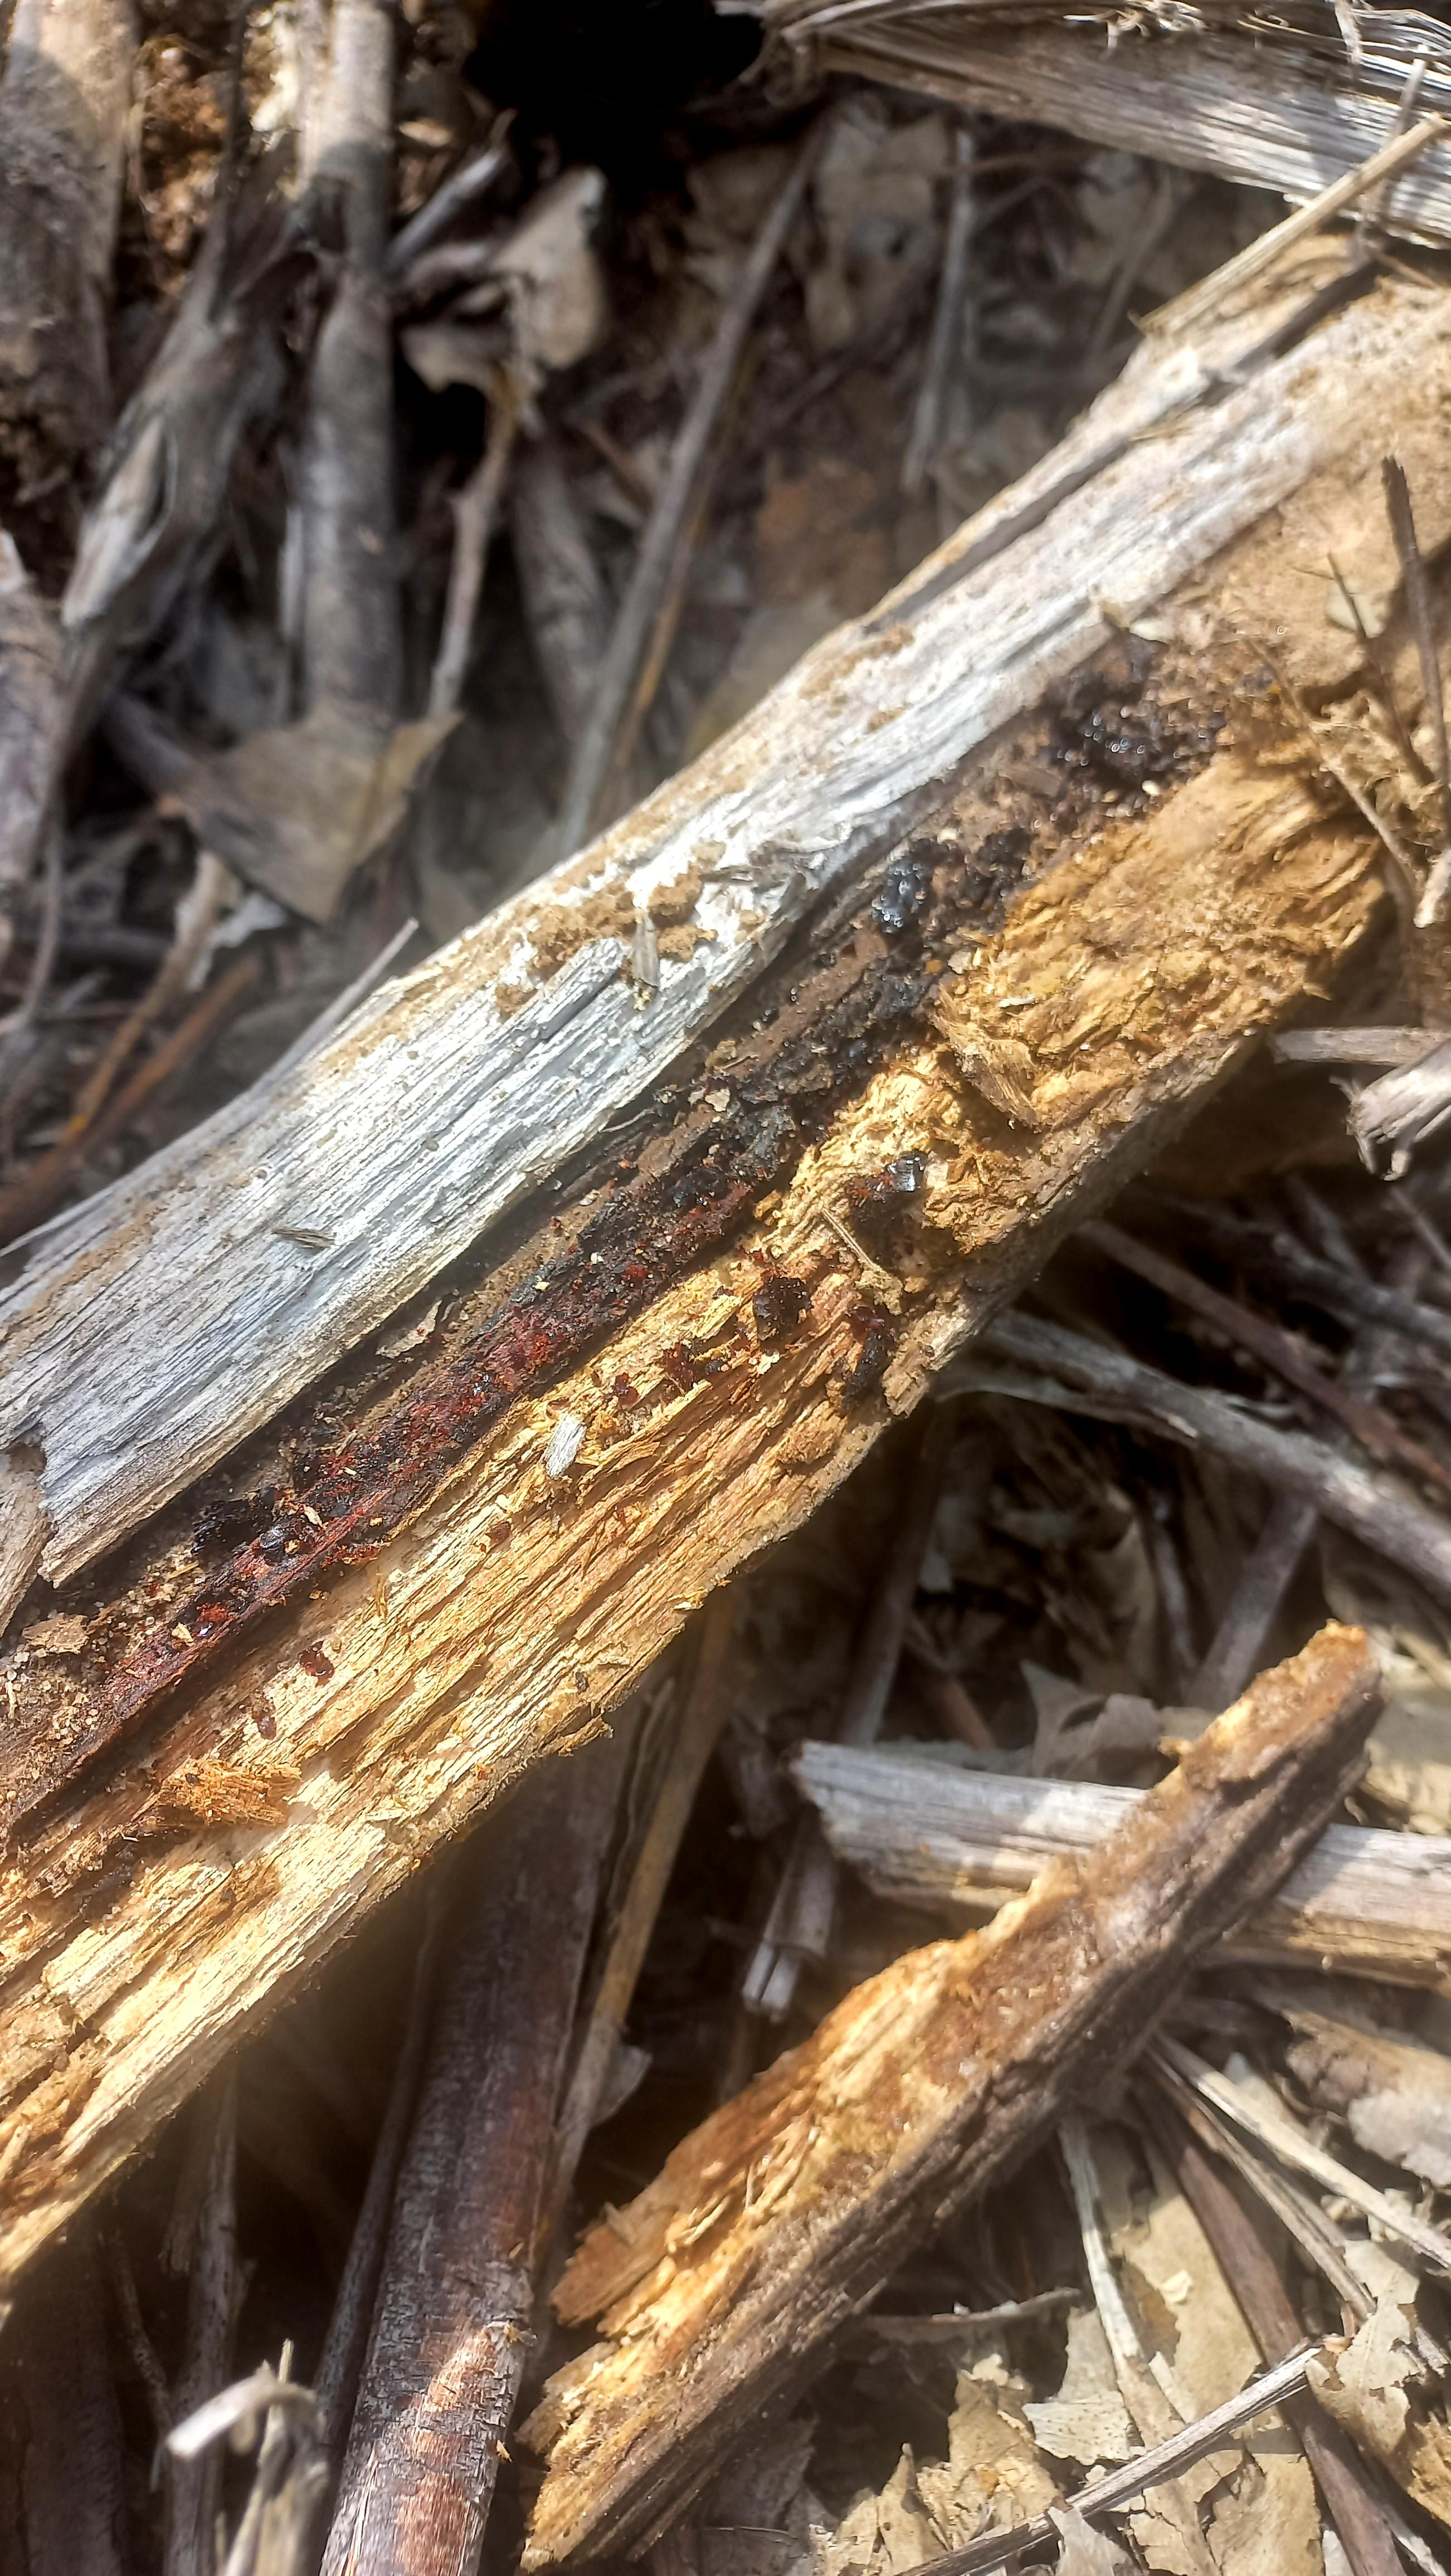Red Root Rot - Secretion: (51, 741, 1076, 1867)
